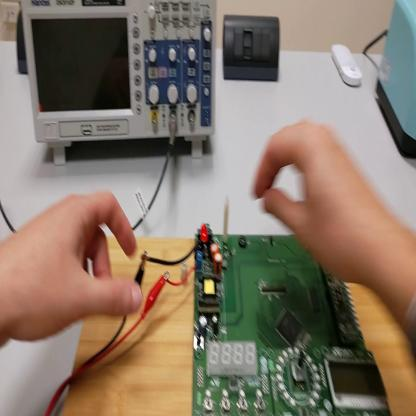hand: (250, 119, 382, 286), (8, 190, 143, 341)
low voltage board: (143, 200, 391, 415)
oscilloscope: (22, 5, 217, 169)
socket: (18, 10, 27, 76)
welder station: (375, 4, 415, 157)
working area: (62, 234, 415, 413)
